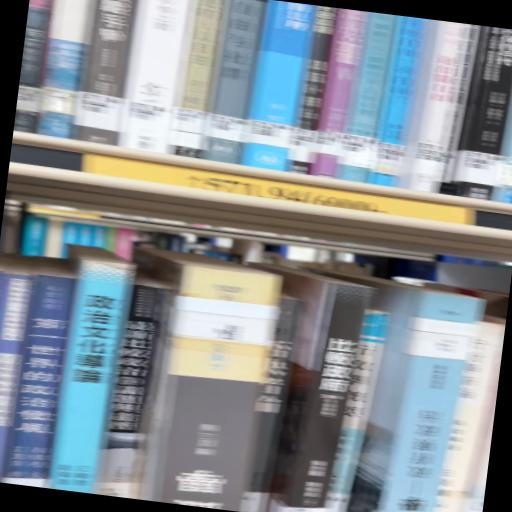reverse: (142, 257, 282, 512), (348, 278, 485, 512)
